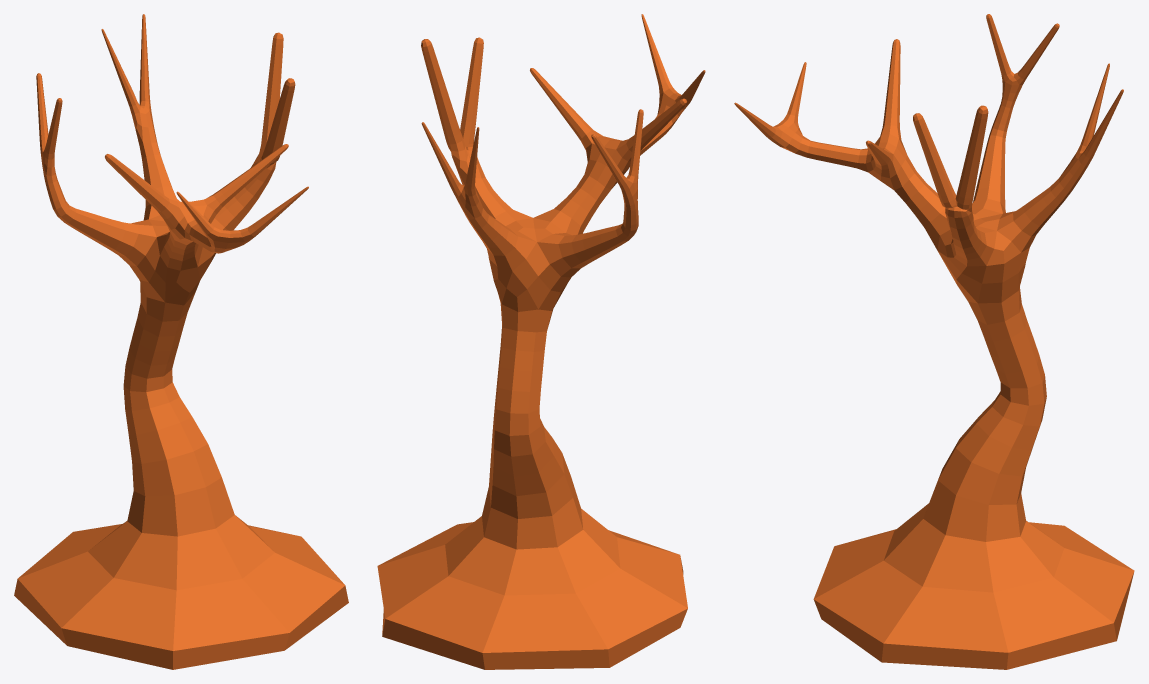
File: Arvore_4morta.fbx
The picture shows the model from 3 angles, left to right: view 1: azimuth 30°, elevation 25°; view 2: azimuth 150°, elevation 25°; view 3: azimuth 270°, elevation 25°; orthographic projection.
Visible parts, largest first — view 1: Vert; view 2: Vert; view 3: Vert.
Boxes of the visible parts, x1,y1,x2,y2 form: Vert: [14, 14, 348, 669]; Vert: [377, 14, 705, 669]; Vert: [734, 14, 1134, 669].
Bounding box in the file's own units: 879 × 1681 × 1095.
